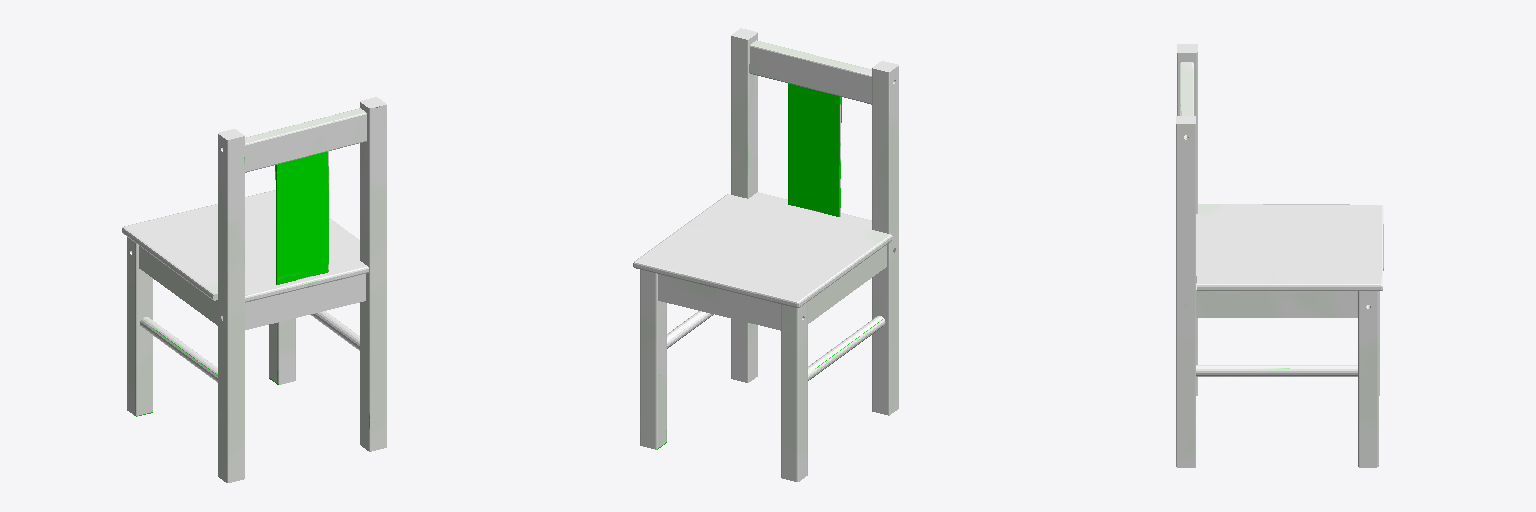
3 renders of one model, left to right at view 1: azimuth 30°, elevation 25°; view 2: azimuth 150°, elevation 25°; view 3: azimuth 270°, elevation 25°, orthographic.
Visible parts, largest first — view 1: left_bakben; view 2: left_bakben; view 3: left_bakben.
Part boxes in pixels (x1,y1,x2,y2): left_bakben: (122, 97, 386, 482); left_bakben: (633, 28, 898, 481); left_bakben: (1176, 44, 1383, 467).
Size of the model in its own units: 10.68 by 21.09 by 11.52.
1 materials, 1 textured.